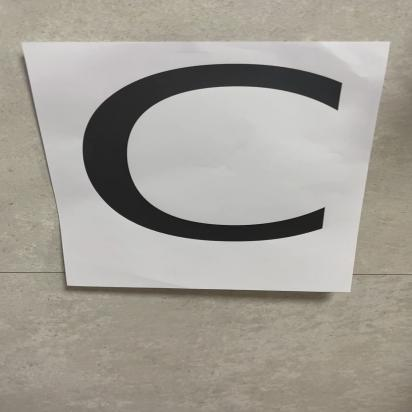seat: (38, 43, 369, 292)
